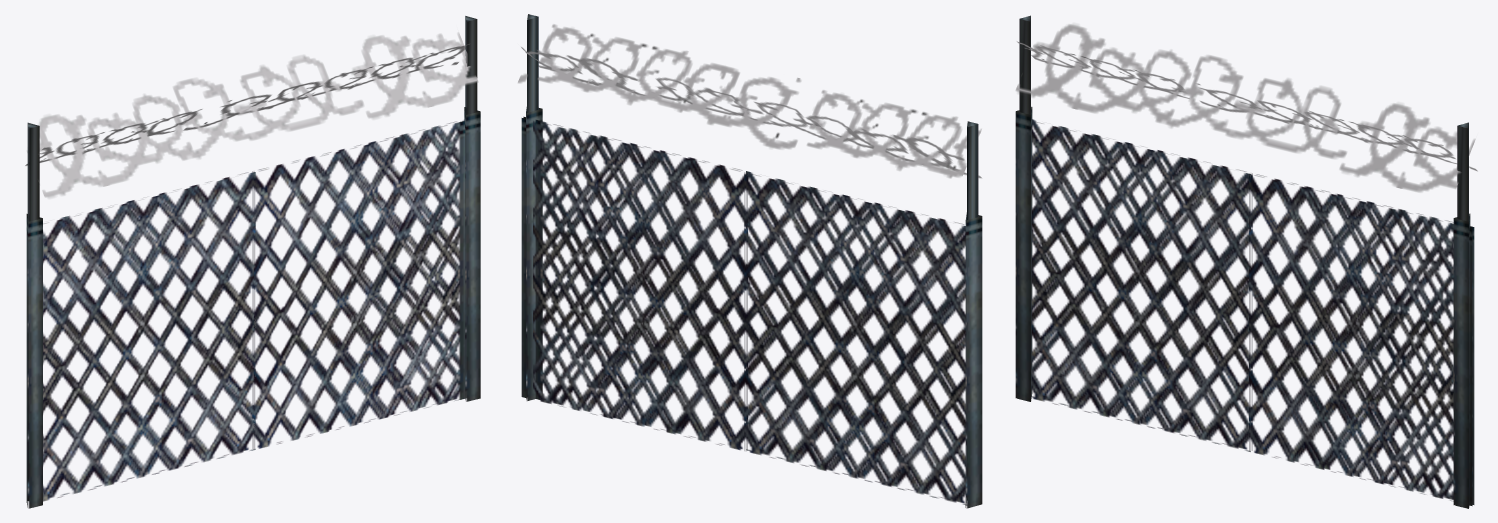
File: Environment - Prop - Chain Link Fence 01 - PMWallChn3.glb
The picture shows the model from 3 angles, left to right: view 1: azimuth 30°, elevation 25°; view 2: azimuth 150°, elevation 25°; view 3: azimuth 330°, elevation 25°; orthographic projection.
Parts seen in each view (by area): view 1: PMWALLCHN3; view 2: PMWALLCHN3; view 3: PMWALLCHN3.
Boxes of the visible parts, x1,y1,x2,y2 form: PMWALLCHN3: (25, 16, 480, 508); PMWALLCHN3: (518, 14, 982, 508); PMWALLCHN3: (1015, 15, 1477, 508).
Bounding box in the file's own units: 28.35 × 22.65 × 3.53.
Materials: 2 (2 with a texture image).
